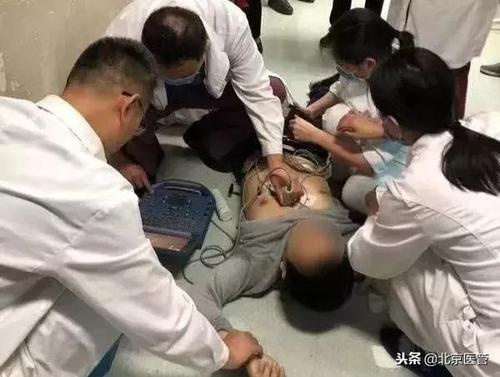falling: (199, 62, 355, 357)
